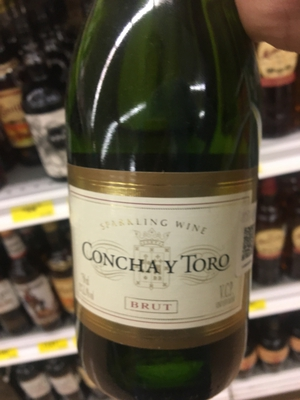brut: (66, 10, 270, 400)
